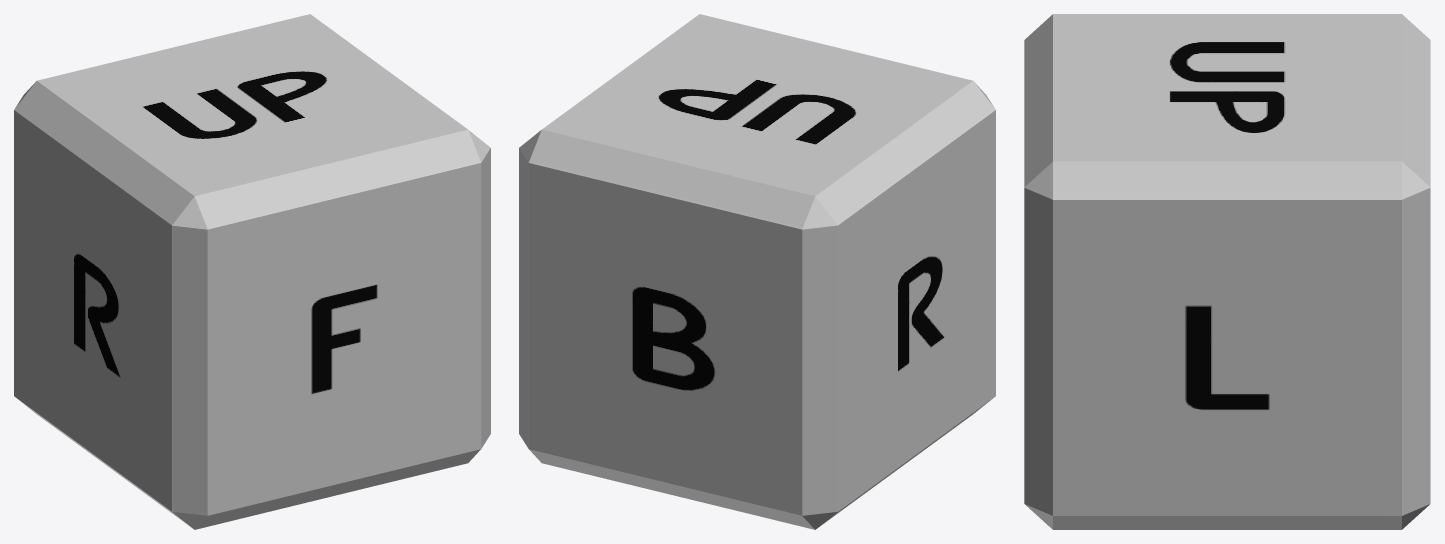
File: control_module.obj
3 renders of one model, left to right at view 1: azimuth 30°, elevation 25°; view 2: azimuth 150°, elevation 25°; view 3: azimuth 270°, elevation 25°, orthographic. The views are drawn at different scales.
Visible parts, largest first — view 1: Cube; view 2: Cube; view 3: Cube.
Part boxes in pixels (left/top/right/bottom): Cube: left=14, top=14, right=490, bottom=529; Cube: left=519, top=14, right=995, bottom=529; Cube: left=1024, top=14, right=1430, bottom=529.
Size of the model in its own units: 2 by 2 by 2.
